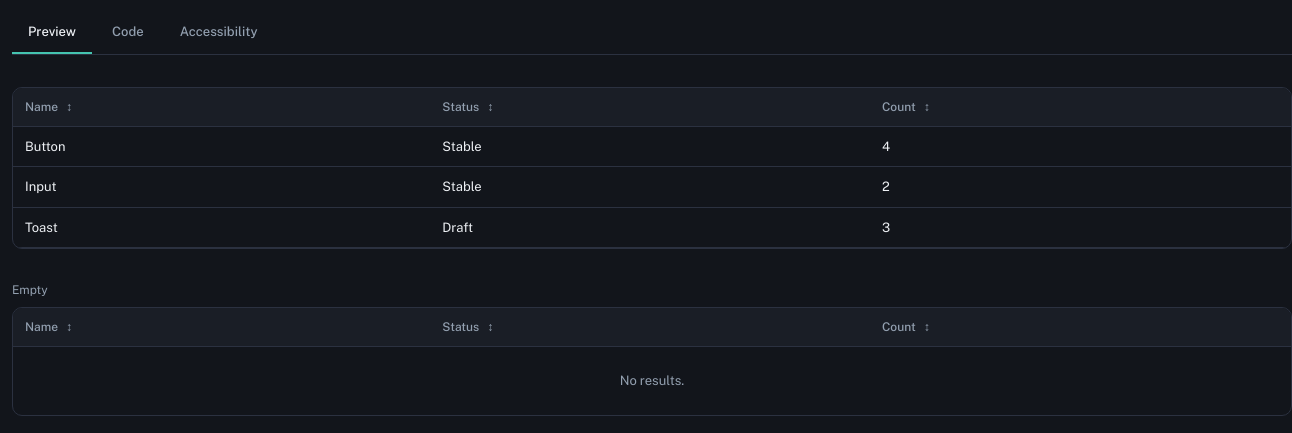
Scenario: DataTableDoc › switches to the Accessibility tab and lists the a11y notes
Click the tab "Accessibility" at coordinates (219, 33), box [164,12,274,54]
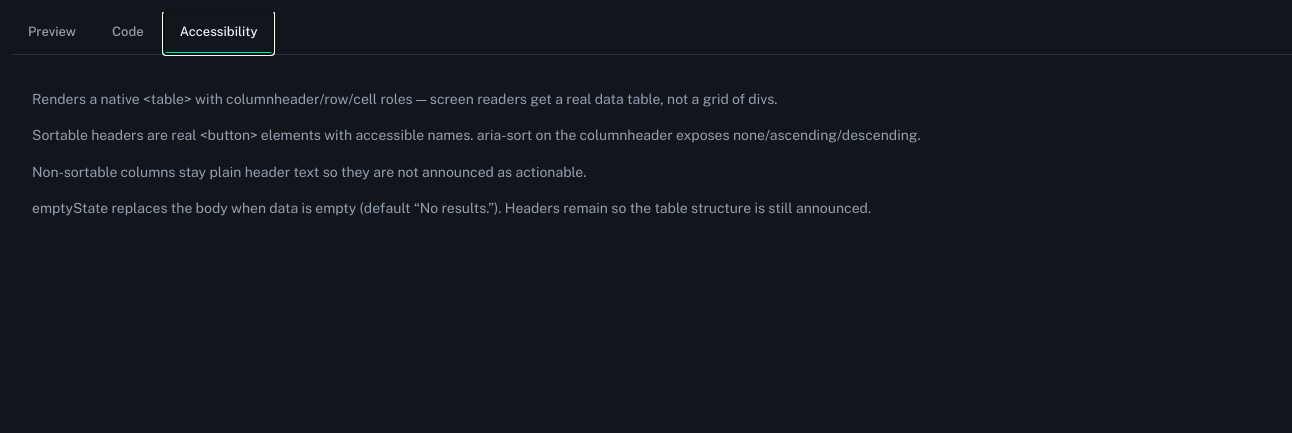
expect the list item "native <table>" is shown: met, box [32,90,777,106]
expect the list item "aria-sort" is shown: met, box [32,127,921,143]
